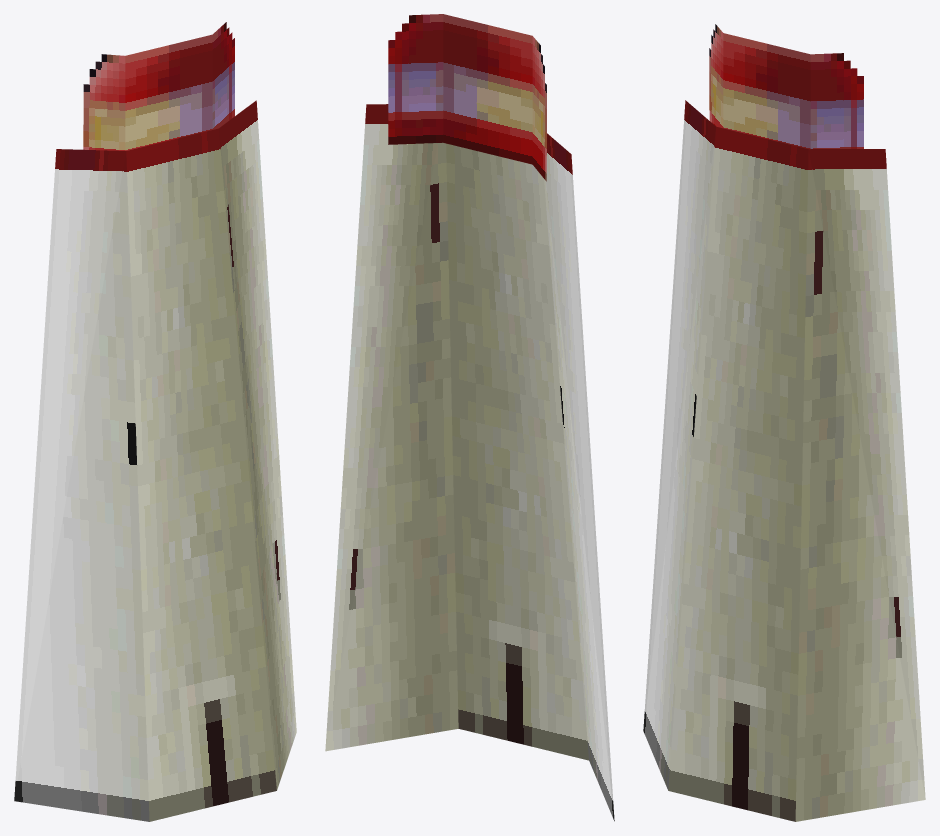
The picture shows the model from 3 angles, left to right: view 1: azimuth 30°, elevation 25°; view 2: azimuth 150°, elevation 25°; view 3: azimuth 330°, elevation 25°; orthographic projection. The views are drawn at different scales.
Parts seen in each view (by area): view 1: obj-cl3-32; view 2: obj-cl3-32; view 3: obj-cl3-32.
Boxes of the visible parts, x1,y1,x2,y2 form: obj-cl3-32: (14,22,296,821); obj-cl3-32: (325,14,614,821); obj-cl3-32: (643,24,925,821).
Bounding box in the file's own units: 2.15 × 5.33 × 0.7344.
6 materials, 6 textured.
